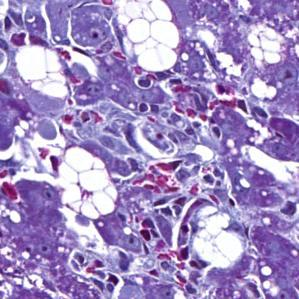ballooning: (56, 143, 119, 223), (115, 4, 182, 77), (184, 207, 245, 270), (15, 42, 72, 104), (239, 23, 287, 70)
